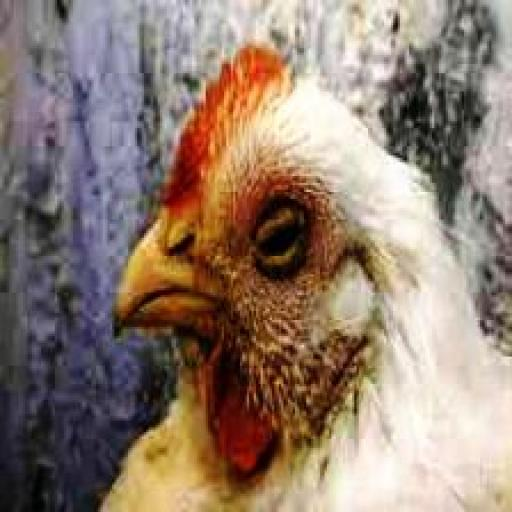disease: (211, 178, 330, 287)
